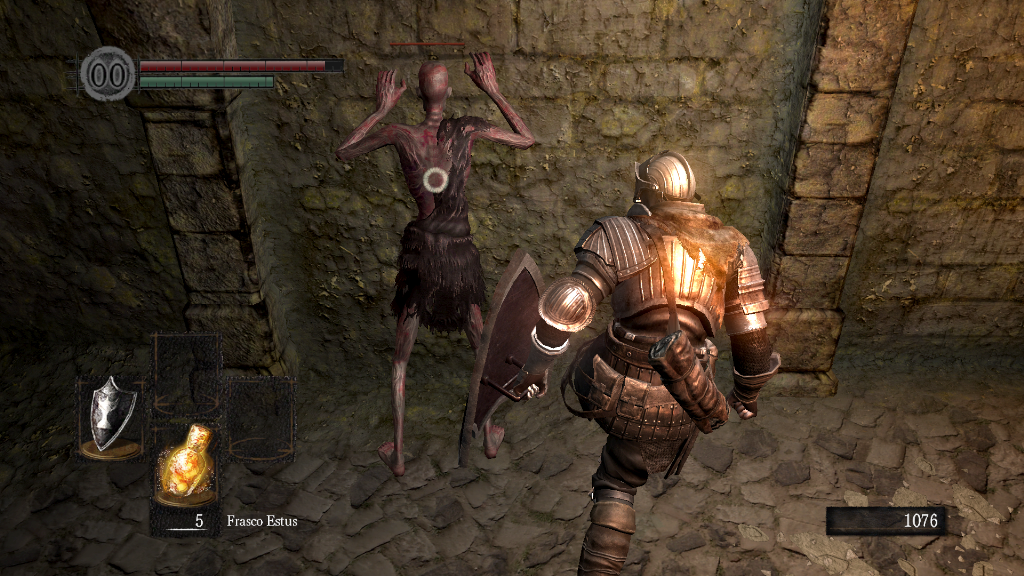health: (138, 58, 343, 71)
hollow: (331, 51, 539, 488)
humanity: (80, 45, 136, 102)
player: (457, 152, 783, 573)
souls: (825, 506, 945, 536)
stamina: (138, 74, 274, 88)
